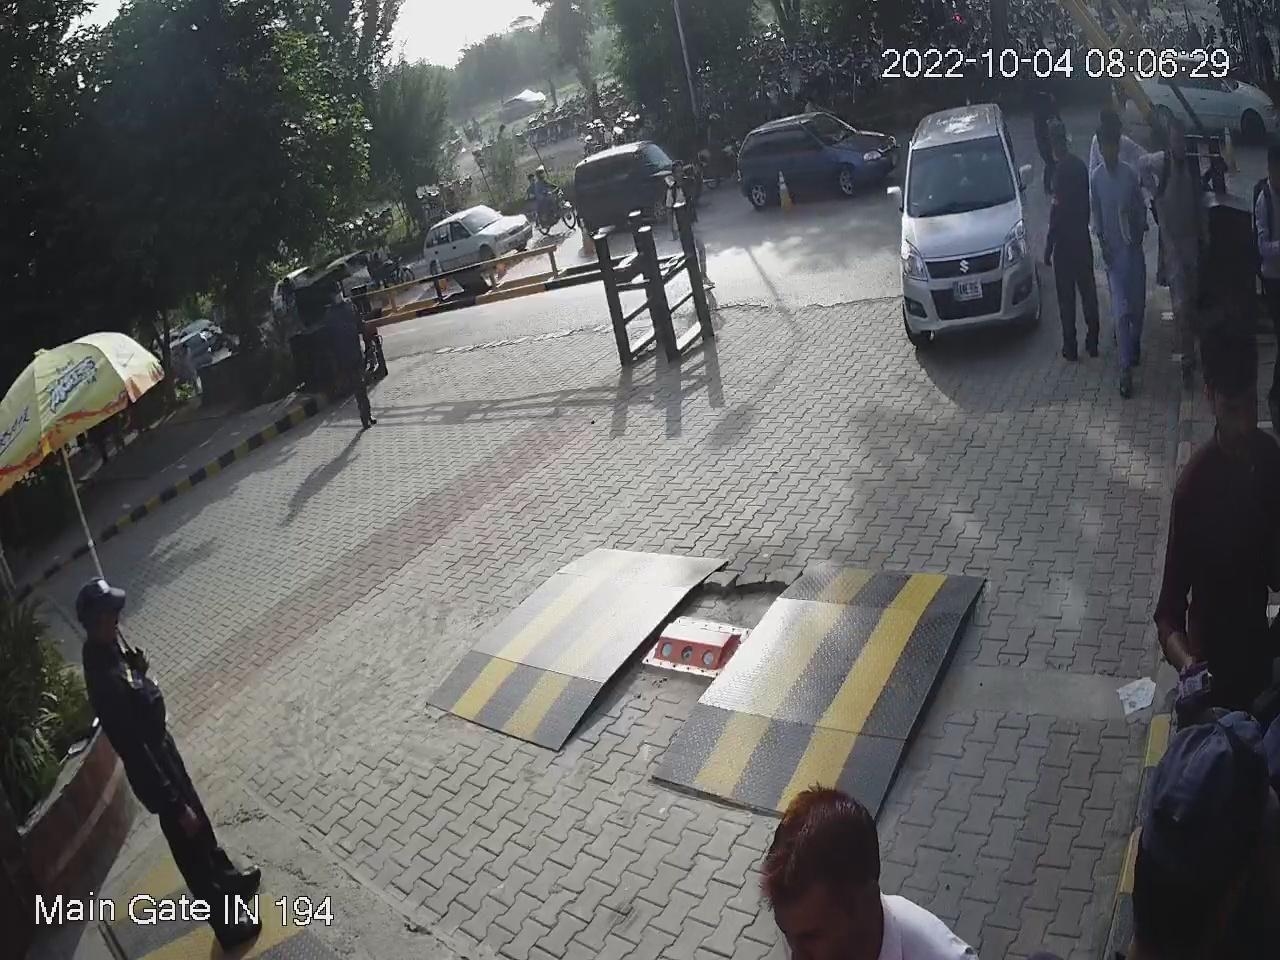windshield: (900, 118, 1015, 220)
